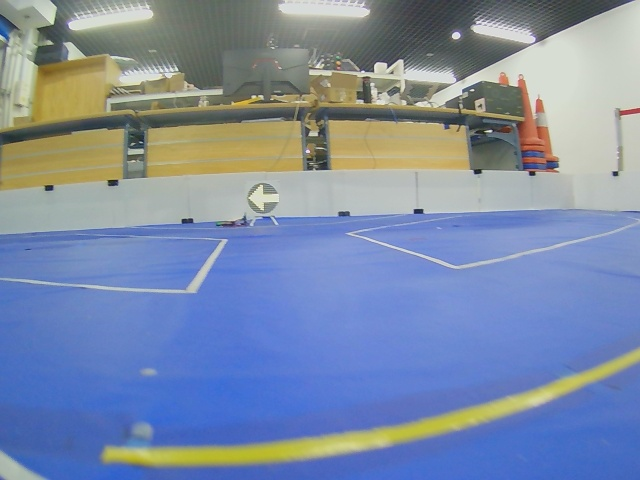left_yellow: (248, 184, 279, 213)
